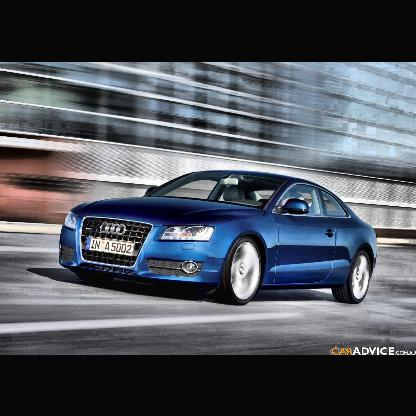Audi A5 Coupe 2012: (58, 169, 380, 307)
